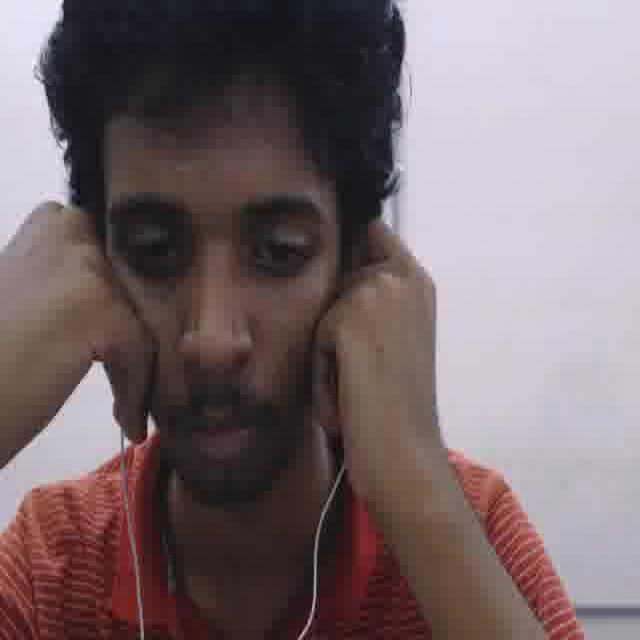Boredom: (90, 89, 339, 504)
